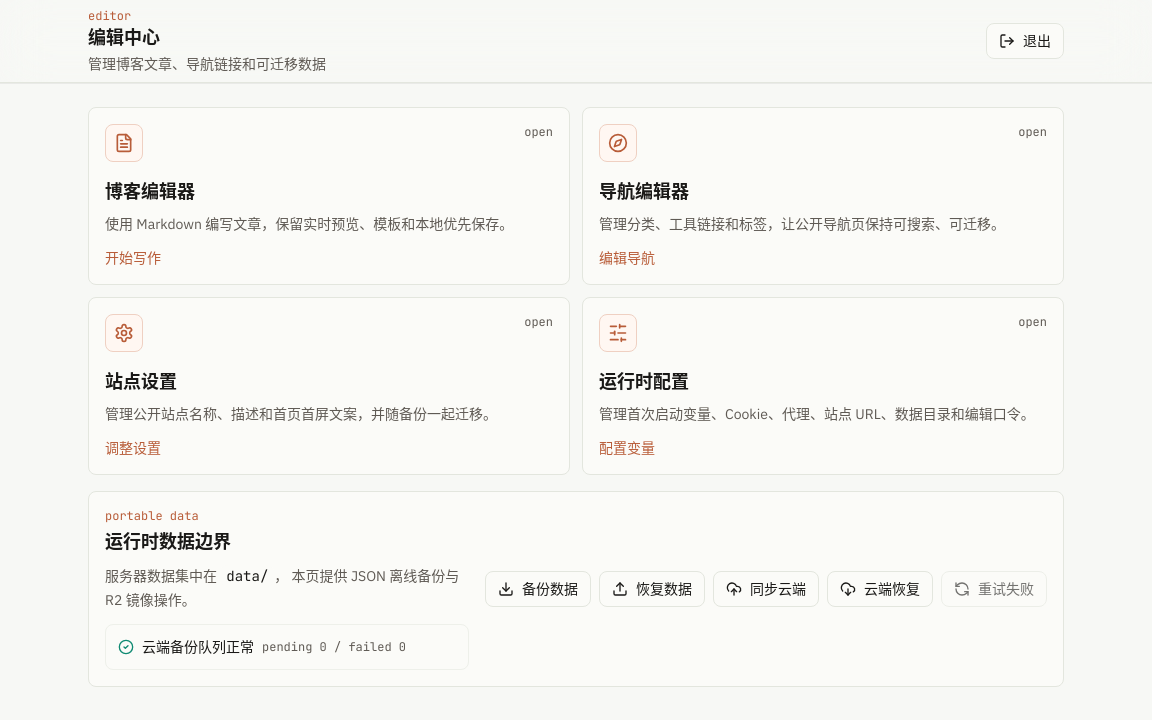
it: EditorHomePage › syncs remote backups through the resource endpoint
Click the button "同步云端" at (766, 589), box 713,571 -> 819,607
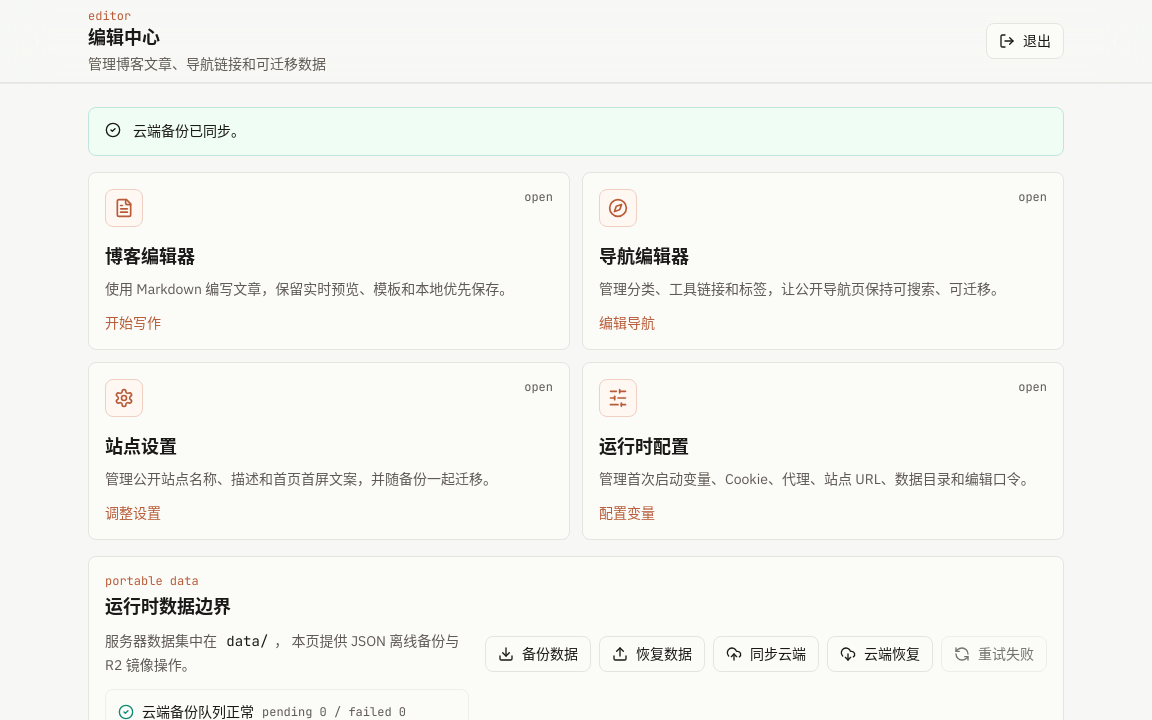
Check: the text "云端备份已同步。" is shown, box 133,120 -> 245,143
